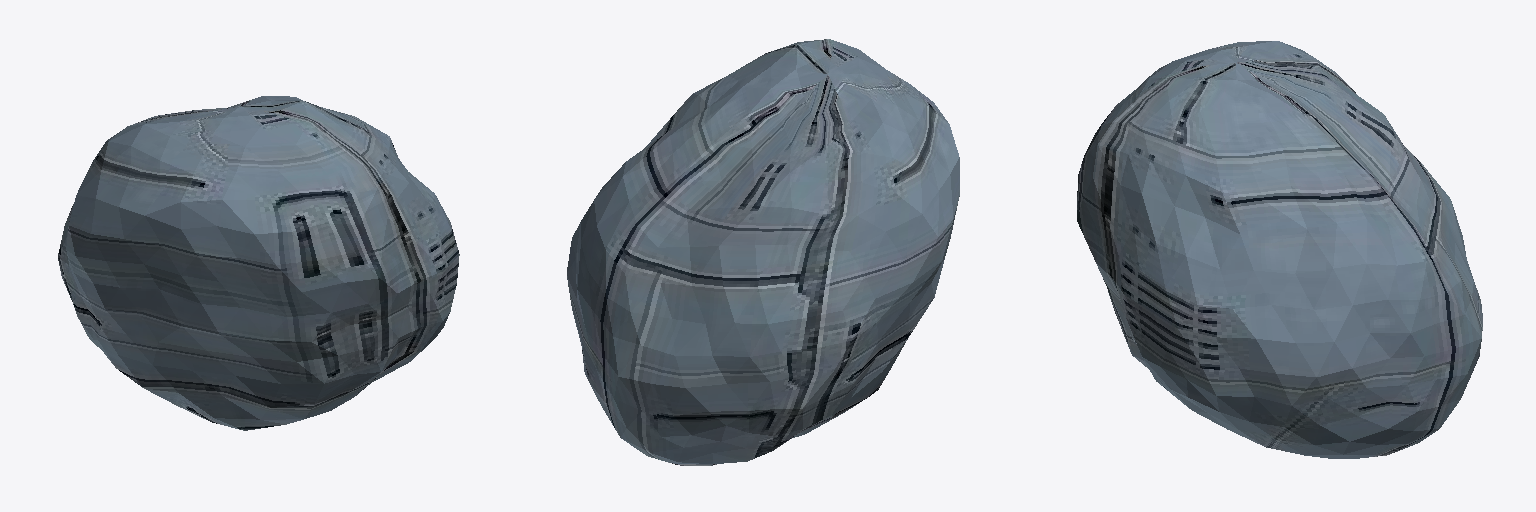
3 views of the same model, side by side, from view 1: azimuth 30°, elevation 25°; view 2: azimuth 150°, elevation 25°; view 3: azimuth 270°, elevation 25° (orthographic).
Parts seen in each view (by area): view 1: Meteor_メッシュ; view 2: Meteor_メッシュ; view 3: Meteor_メッシュ.
Boxes of the visible parts, x1=… form: Meteor_メッシュ: x1=58, y1=96, x2=459, y2=430; Meteor_メッシュ: x1=567, y1=39, x2=959, y2=465; Meteor_メッシュ: x1=1077, y1=41, x2=1482, y2=458.
Size of the model in its own units: 2.66 by 2.58 by 2.62.
Materials: 1 (1 with a texture image).